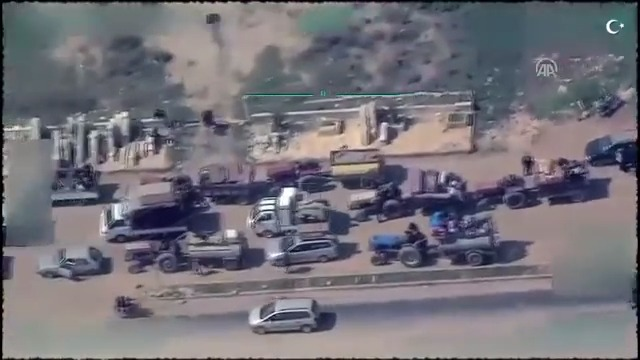arac: (366, 207, 510, 270), (262, 138, 402, 193), (343, 166, 478, 222), (125, 225, 252, 281), (97, 187, 209, 244), (247, 188, 346, 240), (247, 292, 328, 339), (36, 241, 110, 291), (264, 230, 348, 273), (585, 129, 640, 169)
